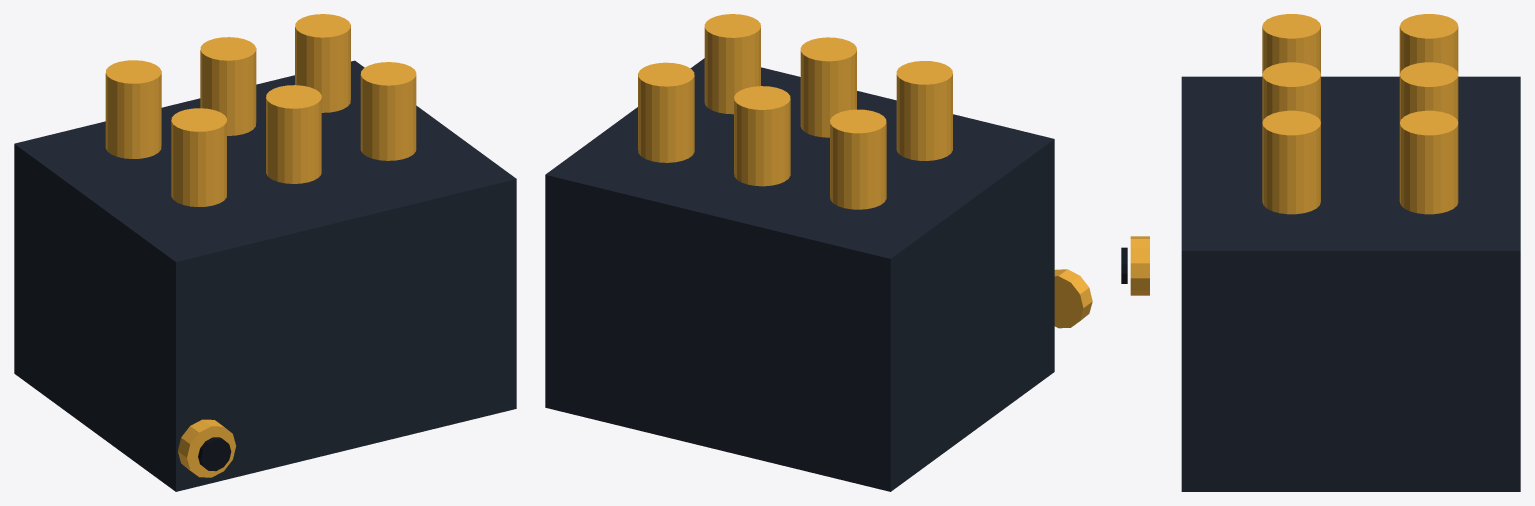
Rendered from 29_L86_ForceTorqueCalibrationFixture.fbx.
3 views of the same model, side by side, from view 1: azimuth 30°, elevation 25°; view 2: azimuth 150°, elevation 25°; view 3: azimuth 270°, elevation 25° (orthographic). The views are drawn at different scales.
Visible parts, largest first — view 1: L86_ForceTorqueCalibrationFixture, L86_ForceTorqueCalibrationFixture_Part_0002, L86_ForceTorqueCalibrationFixture_Part_0003; view 2: L86_ForceTorqueCalibrationFixture, L86_ForceTorqueCalibrationFixture_Part_0002; view 3: L86_ForceTorqueCalibrationFixture, L86_ForceTorqueCalibrationFixture_Part_0002.
Part boxes in pixels (bbox=[...]): L86_ForceTorqueCalibrationFixture: bbox=[14, 14, 516, 491]; L86_ForceTorqueCalibrationFixture_Part_0002: bbox=[178, 419, 235, 477]; L86_ForceTorqueCalibrationFixture_Part_0003: bbox=[198, 437, 231, 471]; L86_ForceTorqueCalibrationFixture: bbox=[545, 14, 1054, 491]; L86_ForceTorqueCalibrationFixture_Part_0002: bbox=[1054, 269, 1092, 328]; L86_ForceTorqueCalibrationFixture: bbox=[1181, 14, 1520, 491]; L86_ForceTorqueCalibrationFixture_Part_0002: bbox=[1130, 236, 1149, 295].
Bounding box in the file's own units: 93.5 × 79.5 × 87.2.
